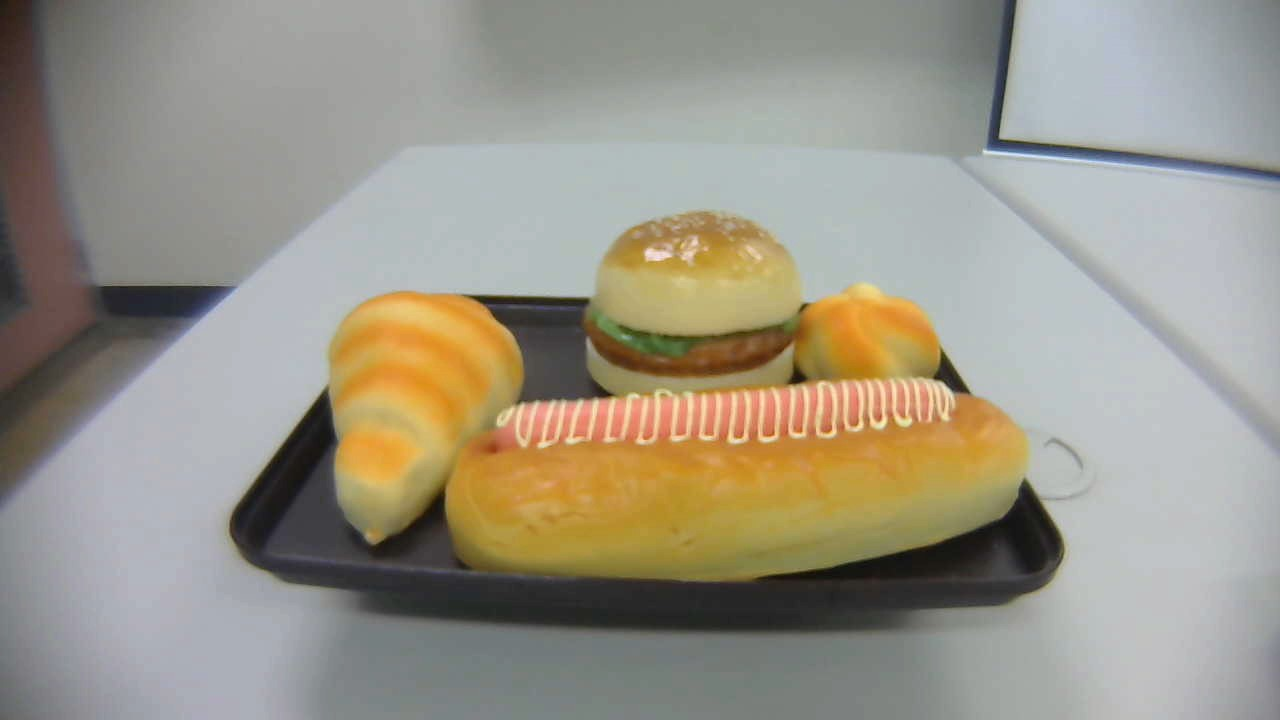croissant: (328, 290, 526, 543)
hamburger: (583, 210, 799, 400)
hot dog: (444, 376, 1030, 582)
twist bread: (792, 281, 942, 400)
